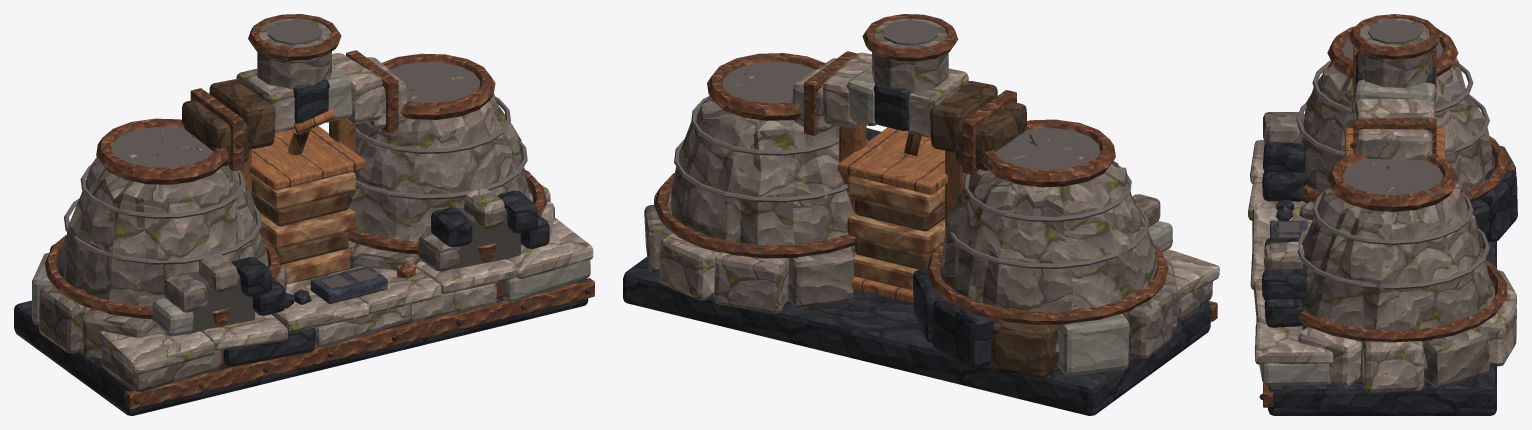
Rendered from twin_smelter.glb.
The picture shows the model from 3 angles, left to right: view 1: azimuth 30°, elevation 25°; view 2: azimuth 150°, elevation 25°; view 3: azimuth 270°, elevation 25°; orthographic projection. The views are drawn at different scales.
Parts seen in each view (by area): view 1: model; view 2: model; view 3: model.
Part boxes in pixels (x1,y1,x2,y2): model: (14, 14, 594, 415); model: (623, 14, 1219, 415); model: (1248, 14, 1517, 415).
Size of the model in its own units: 2.64 by 1.47 by 1.3.
29 materials, 16 textured.
